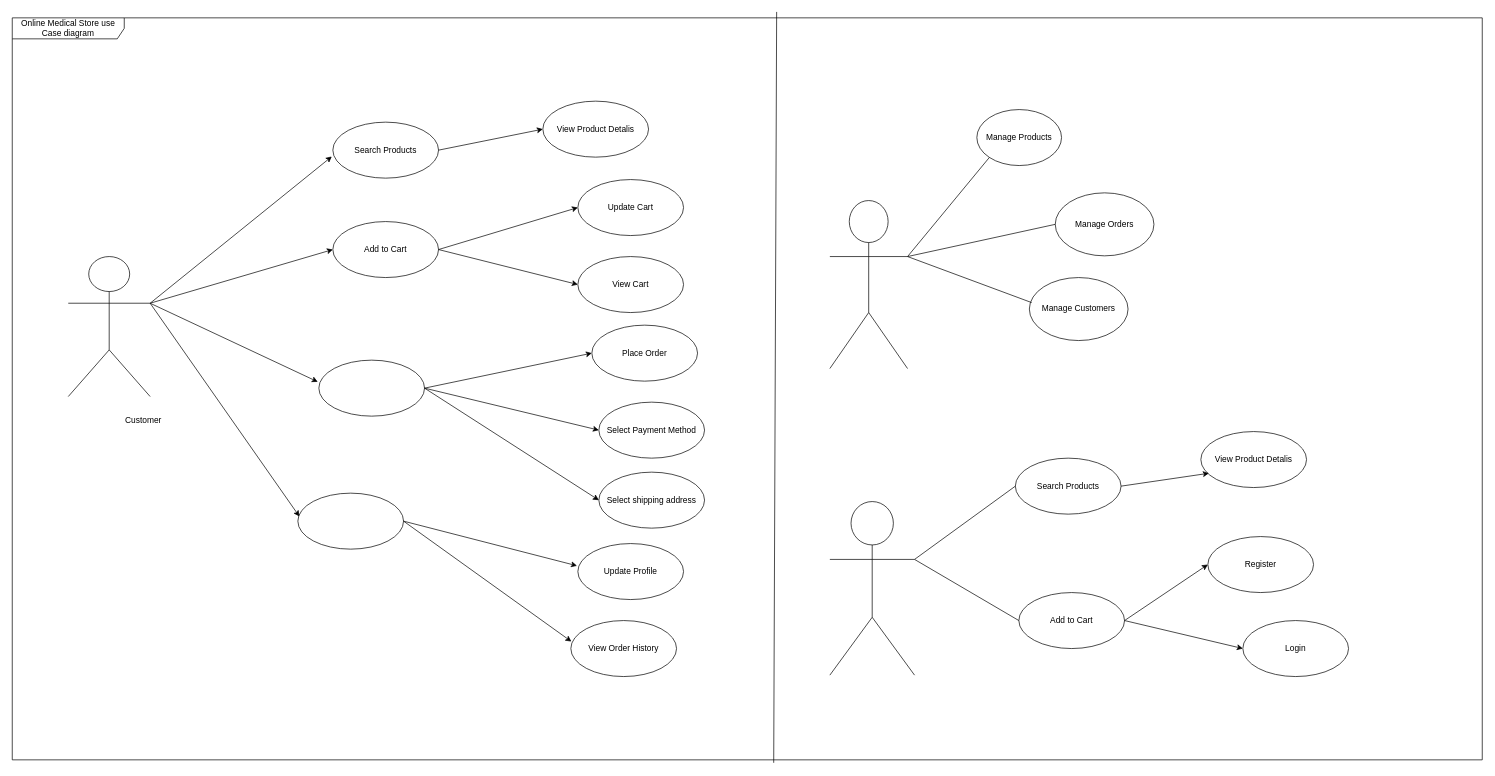
Some shapes in this 1495 by 776 pixel diagram are drawn without their labels. The centre of each missing label's shape, as x and y in pixels:
Admin: point (868, 284)
Checkout: point (371, 387)
Manage Account: point (350, 520)
Visitor: point (872, 588)
